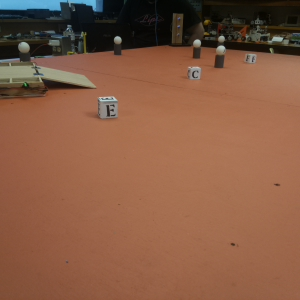blockC: (188, 65, 202, 83)
blockE: (100, 95, 118, 119)
blockF: (245, 52, 257, 66)
corner: (171, 14, 185, 46)
obstacle: (214, 46, 228, 69), (17, 41, 32, 62), (113, 36, 123, 57), (193, 39, 201, 58), (217, 36, 226, 50)
side: (1, 82, 43, 97)
slope: (36, 63, 97, 88)
